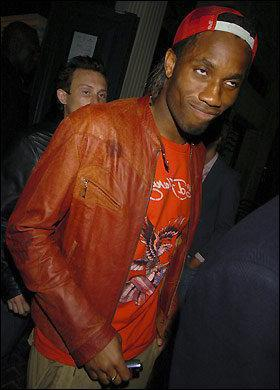Drunk: (182, 39, 247, 131)
